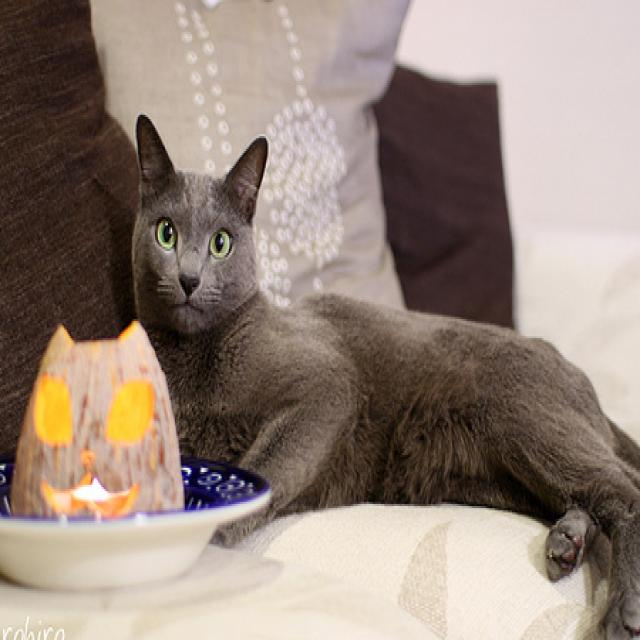Russian Blue: (123, 104, 640, 640)
